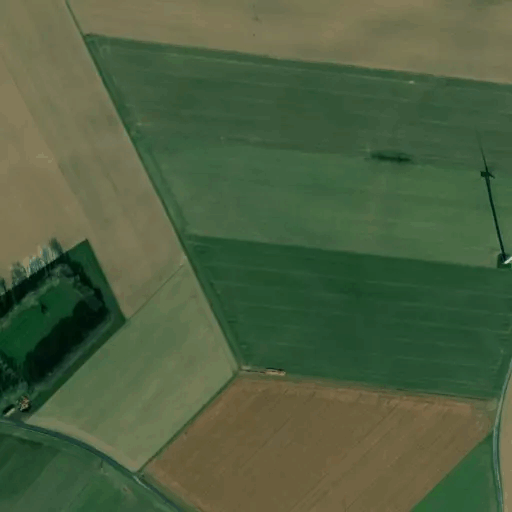wt: (471, 129, 510, 274)
